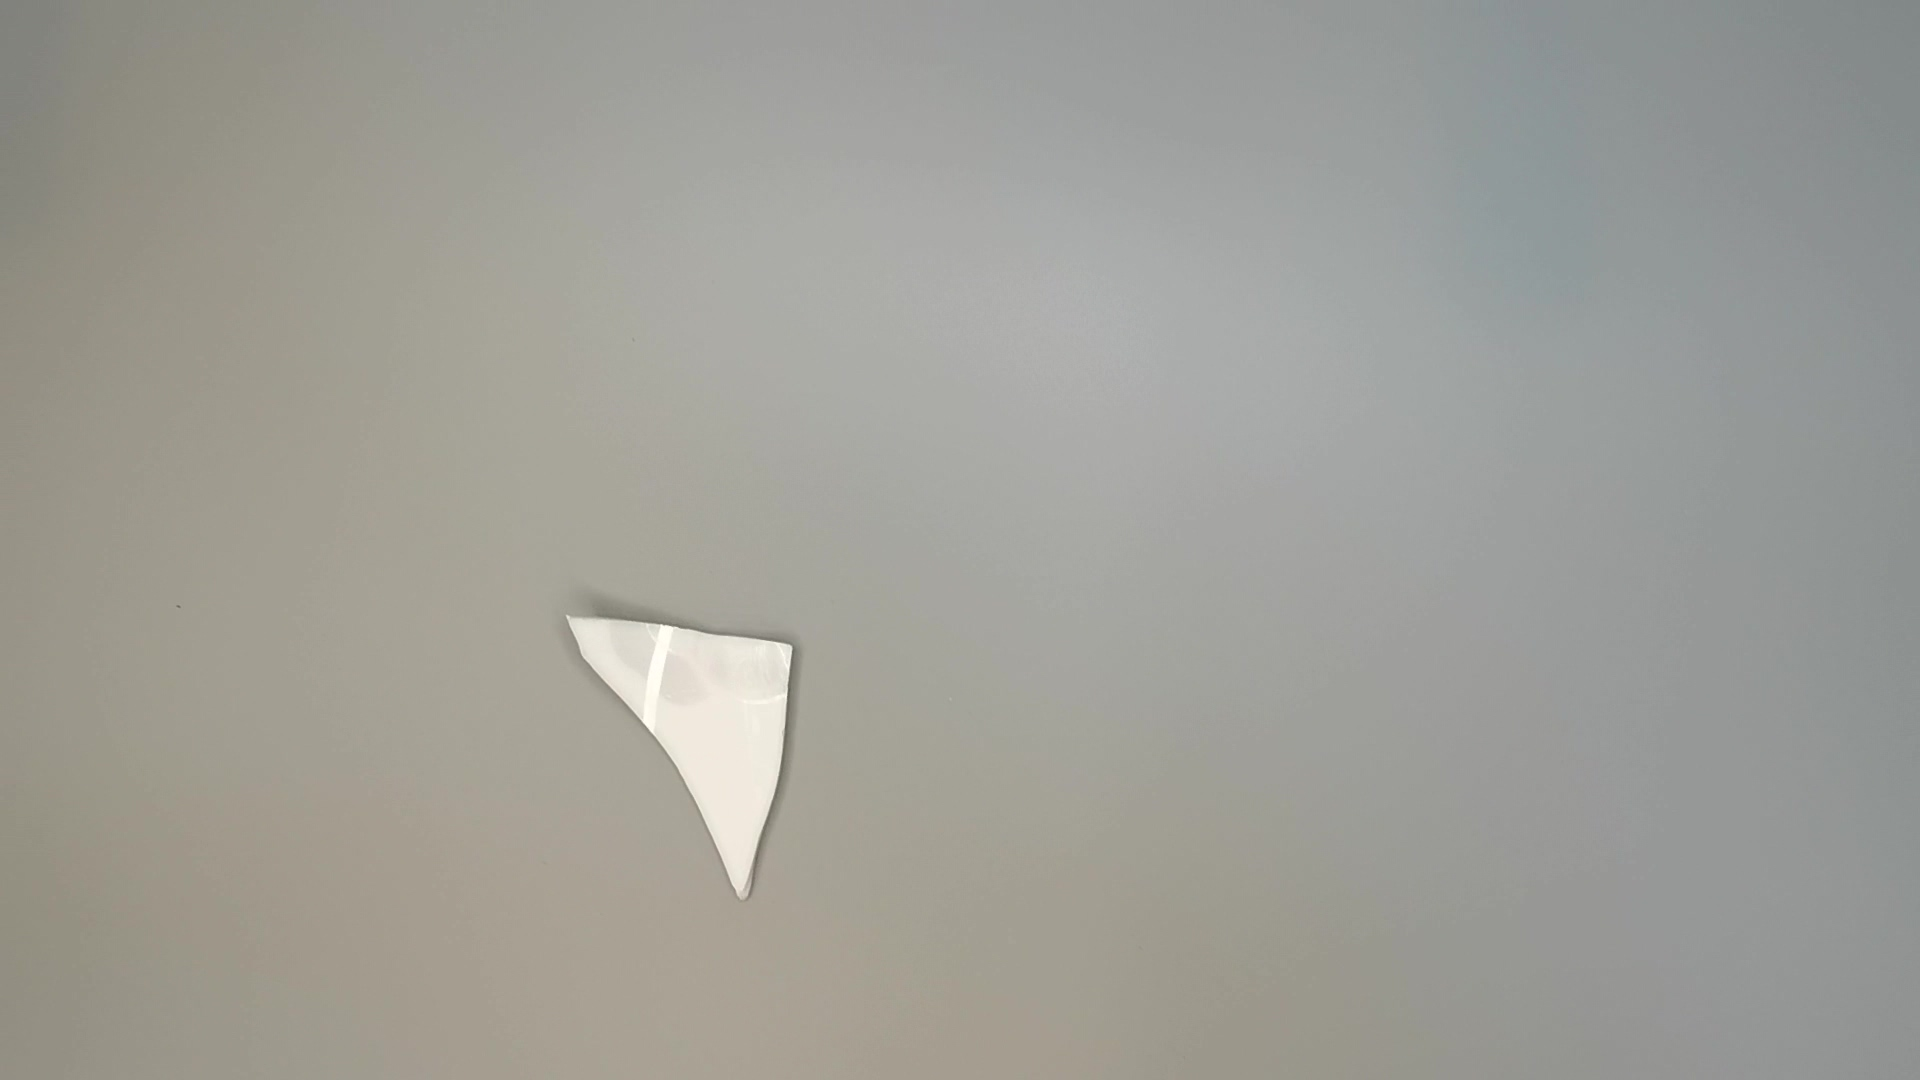ceramic: (559, 607, 806, 909)
